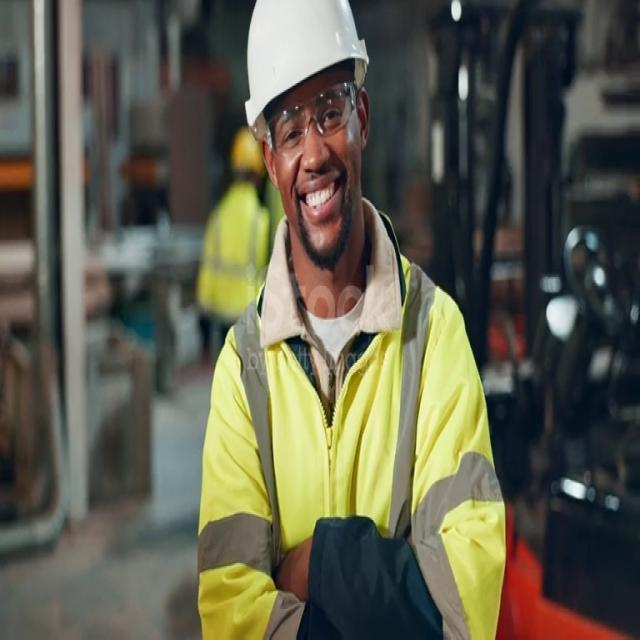capacete: (206, 0, 385, 140)
